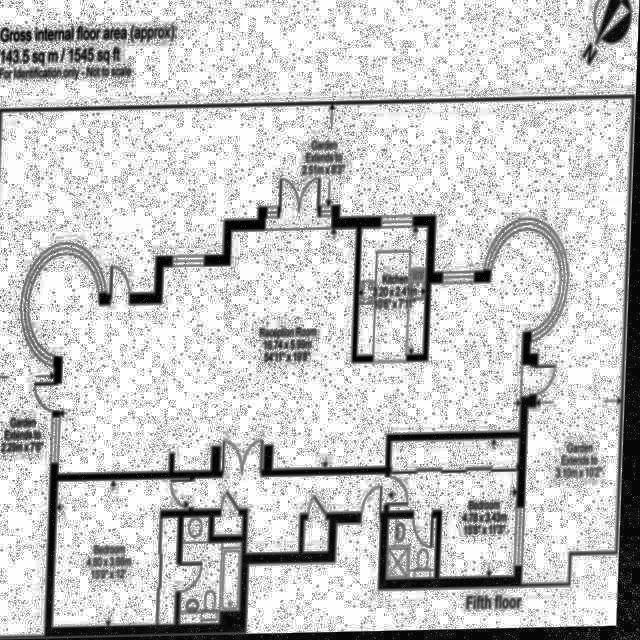room: (268, 217, 565, 479), (26, 225, 270, 480), (58, 478, 192, 630), (393, 442, 523, 580), (196, 475, 391, 556), (358, 227, 431, 359), (184, 518, 246, 625), (391, 519, 441, 583)
